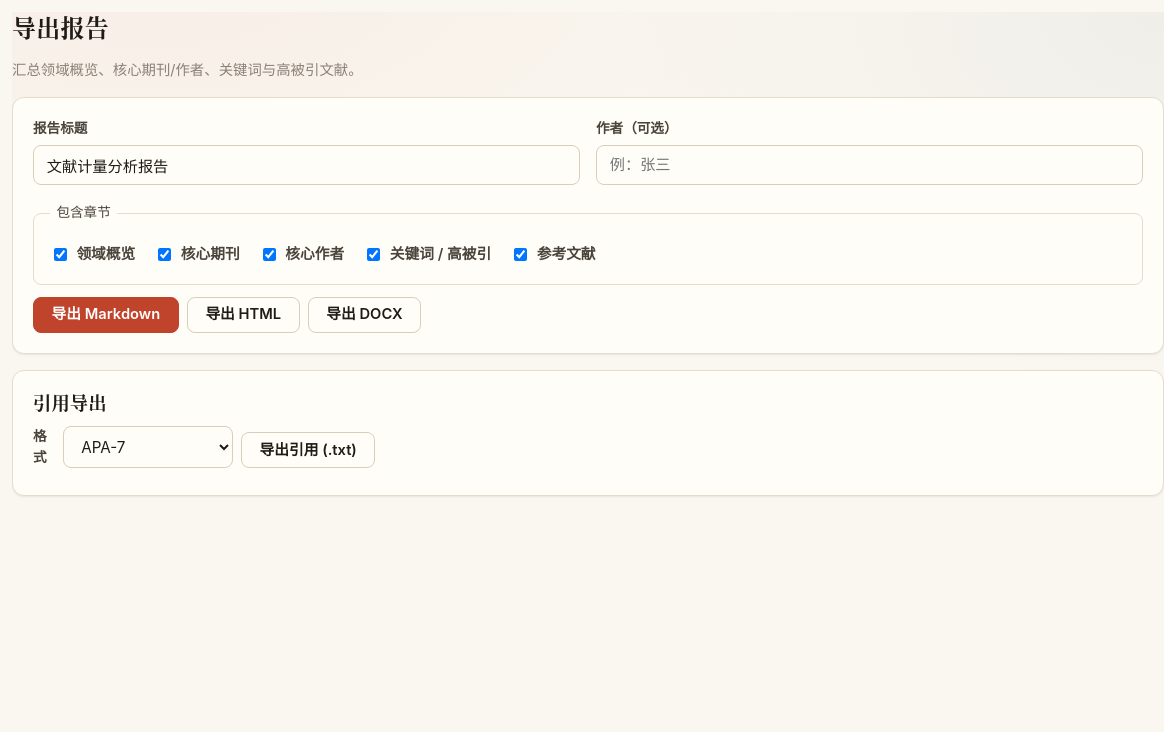
Test case: ReportPanel A7 › DOCX 返回 503(PANDOC_UNAVAILABLE) → 隐藏 DOCX 按钮 + 降级提示
The image size is (1164, 732).
Click the button "导出 DOCX" at (364, 315), box [308, 297, 421, 333]
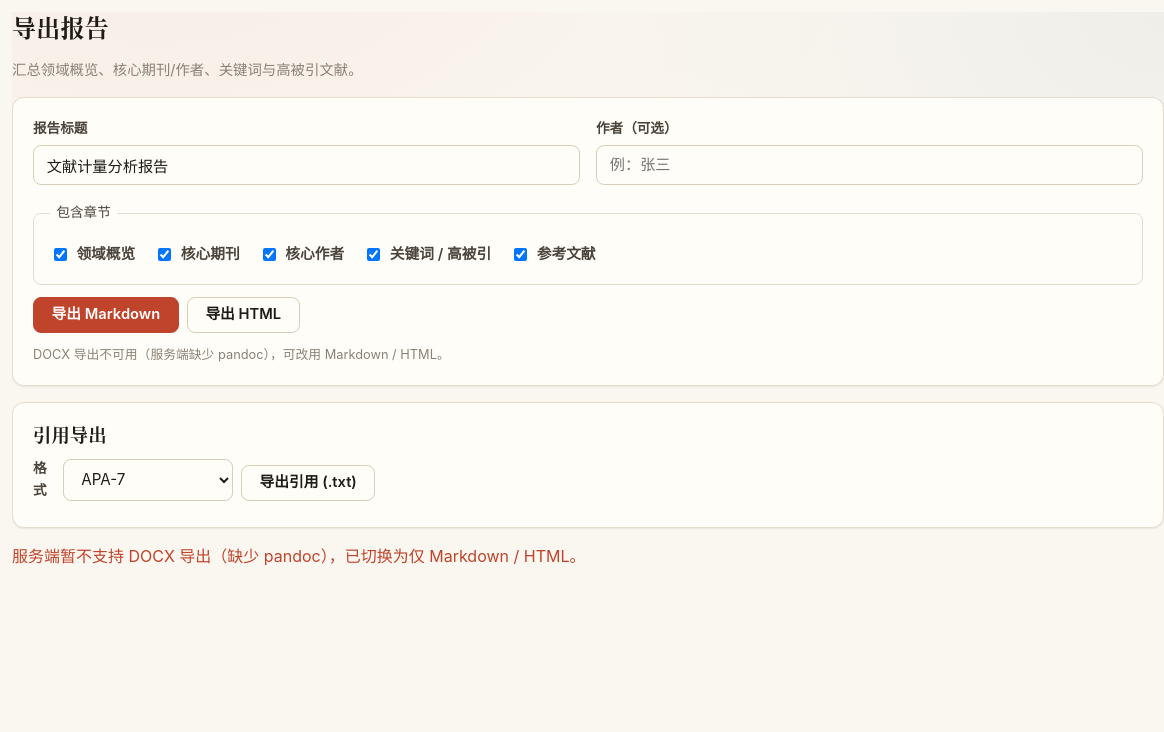
Expected: the button "导出 Markdown" is shown, [33, 297, 179, 333]
Result: the button "导出 DOCX" is gone
Result: the text "DOCX 导出不可用（服务端缺少 pandoc），可改用 Markdown / HTML。" is shown at [33, 347, 450, 362]
